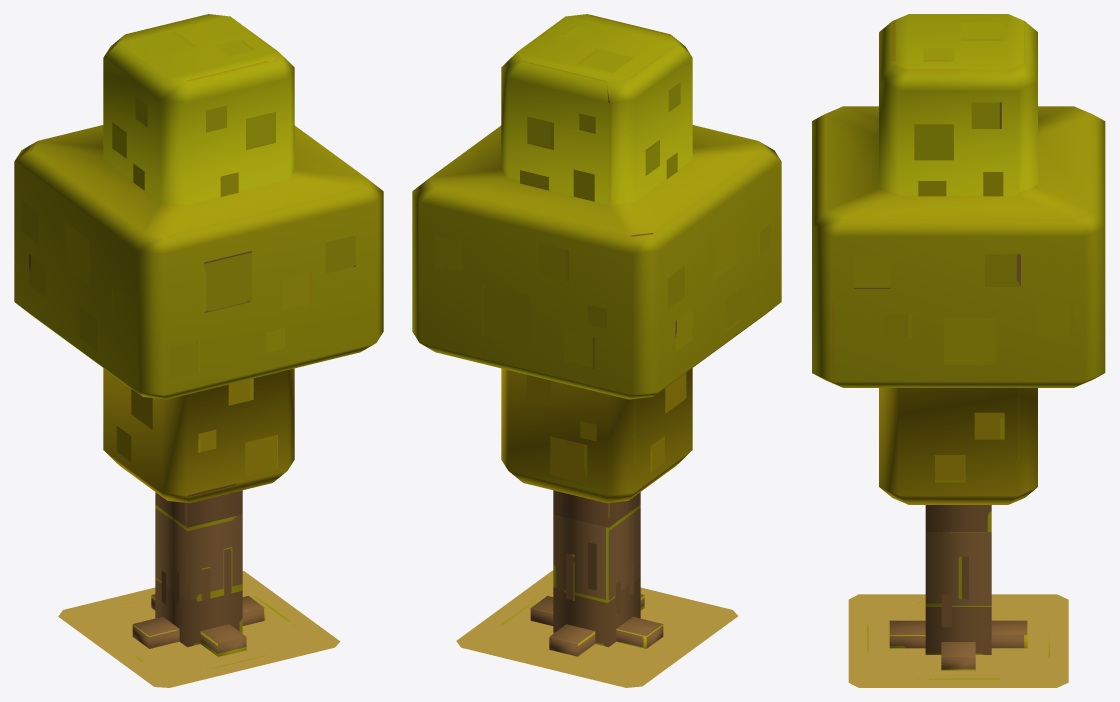
The model's file is B_mountain1_tree01.fbx.
The picture shows the model from 3 angles, left to right: view 1: azimuth 30°, elevation 25°; view 2: azimuth 150°, elevation 25°; view 3: azimuth 270°, elevation 25°; orthographic projection. The views are drawn at different scales.
Visible parts, largest first — view 1: model 1, model; view 2: model 1, model; view 3: model 1, model.
Part boxes in pixels (<box>): model 1: <box>14,14,383,687</box>; model: <box>118,595,294,669</box>; model 1: <box>412,14,781,687</box>; model: <box>501,596,657,667</box>; model 1: <box>812,14,1105,687</box>; model: <box>867,602,1049,679</box>.
Bounding box in the file's own units: 4.04 × 9.05 × 4.04.
1 material, 1 textured.
